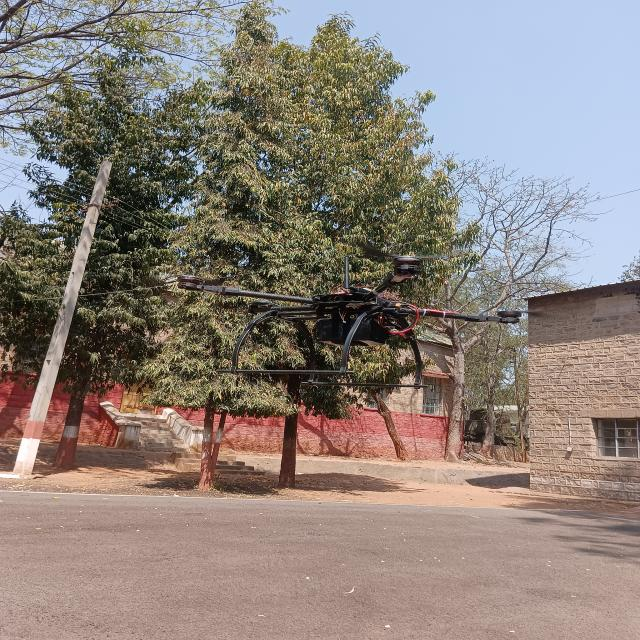drone: (134, 225, 567, 400)
